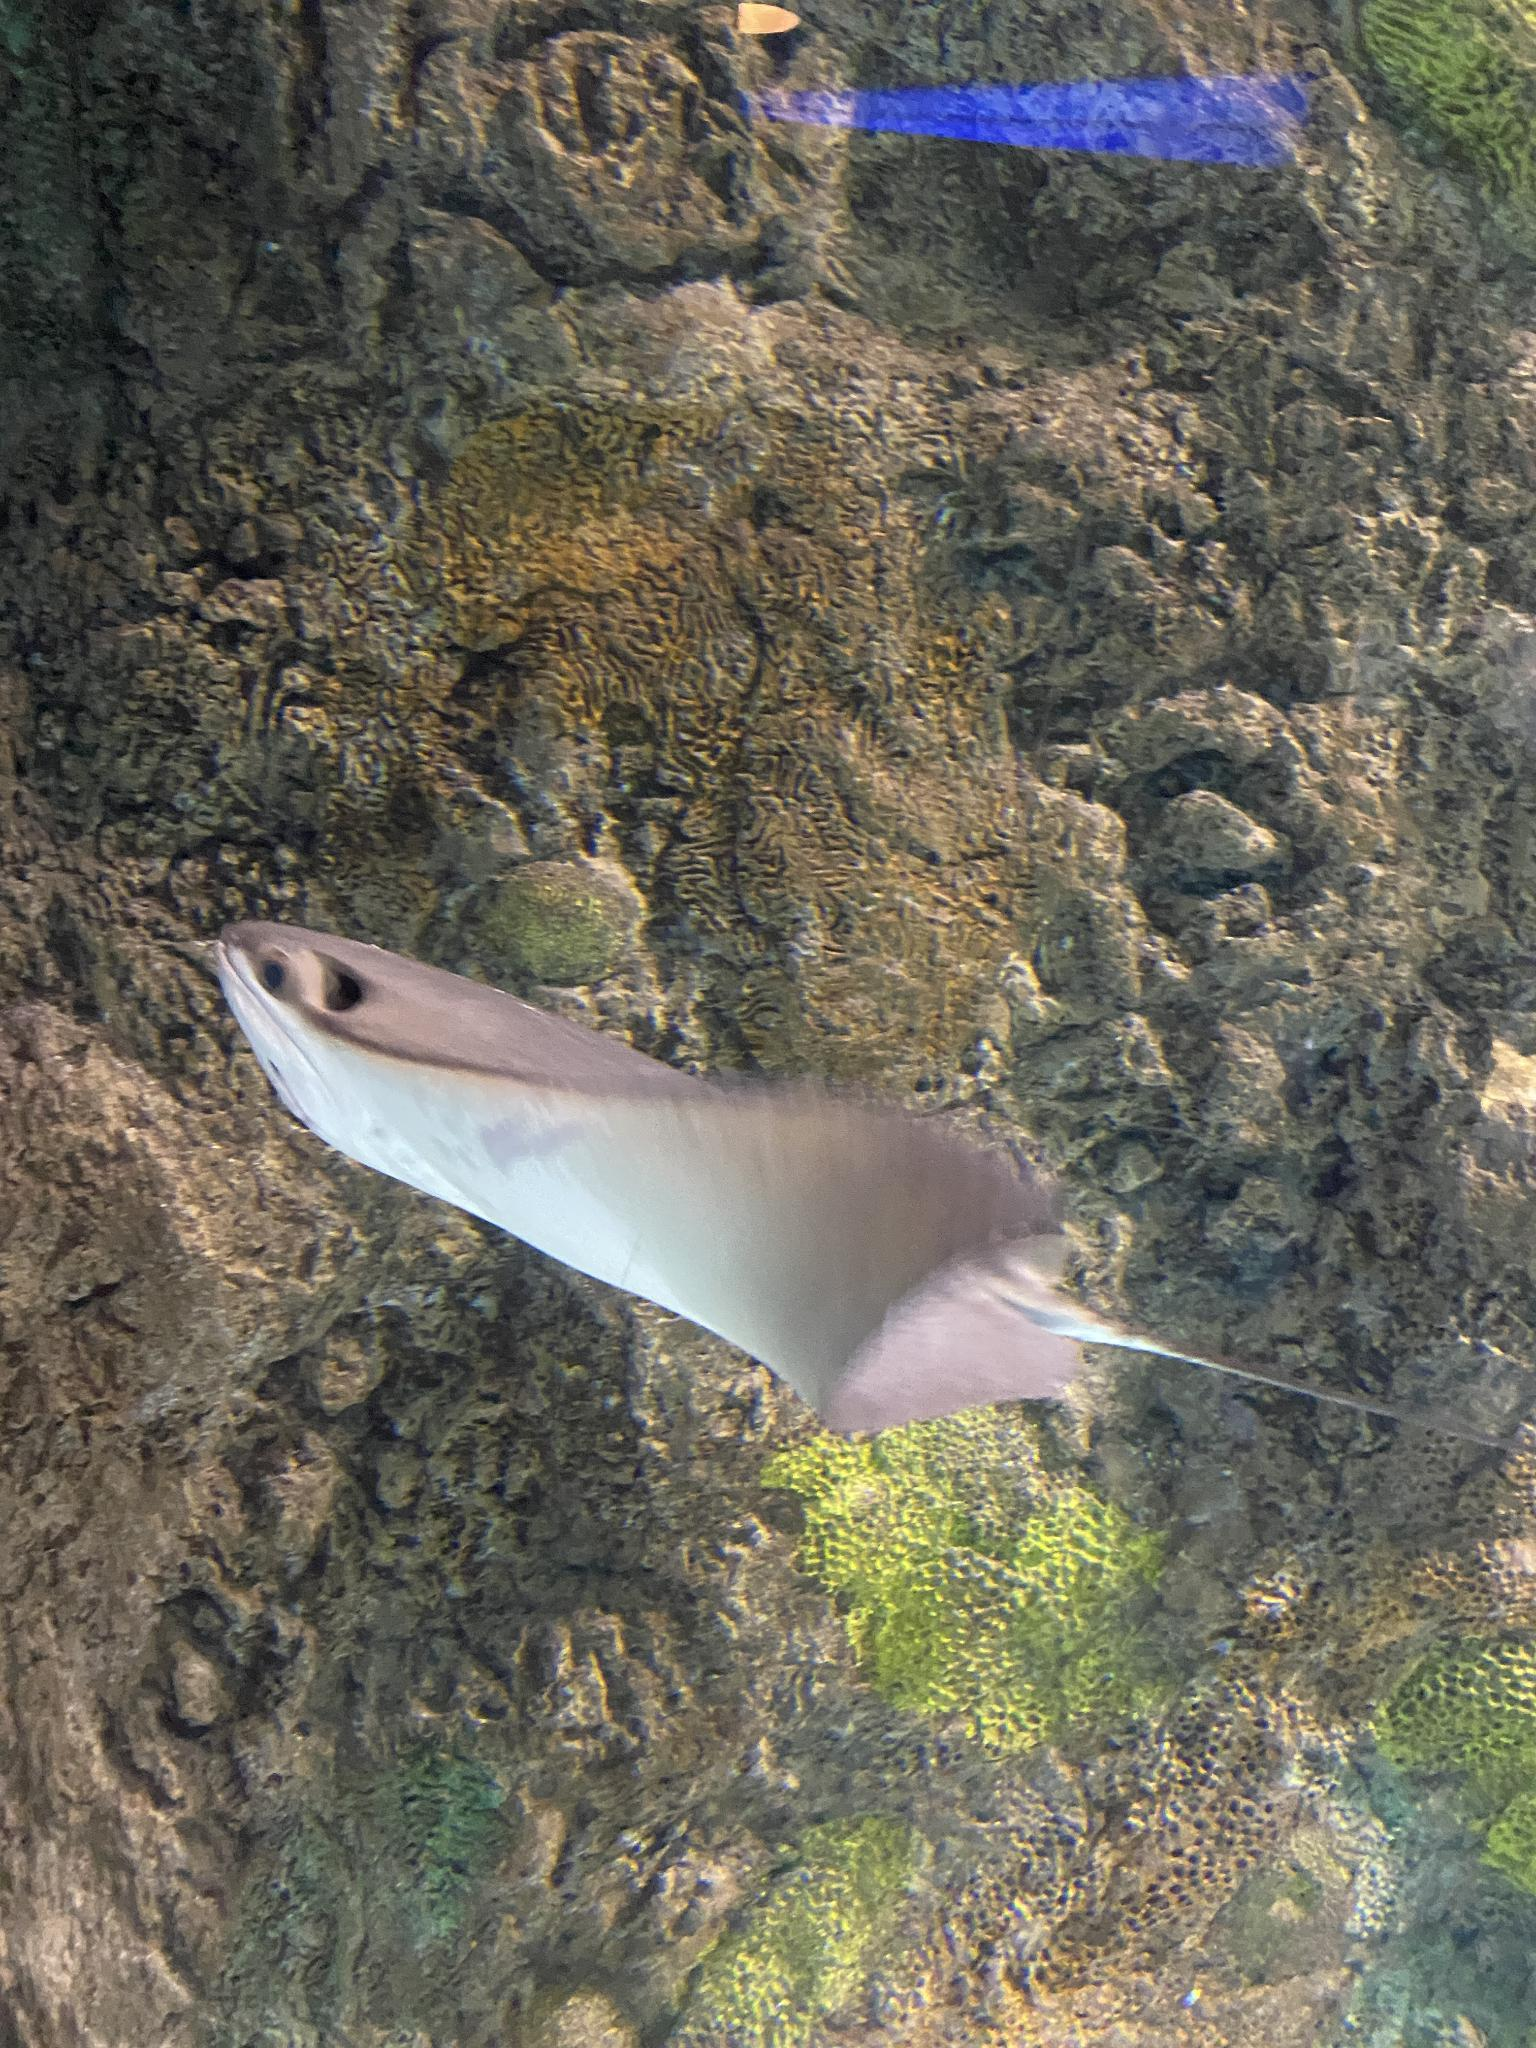stingray: (203, 910, 1091, 1443)
